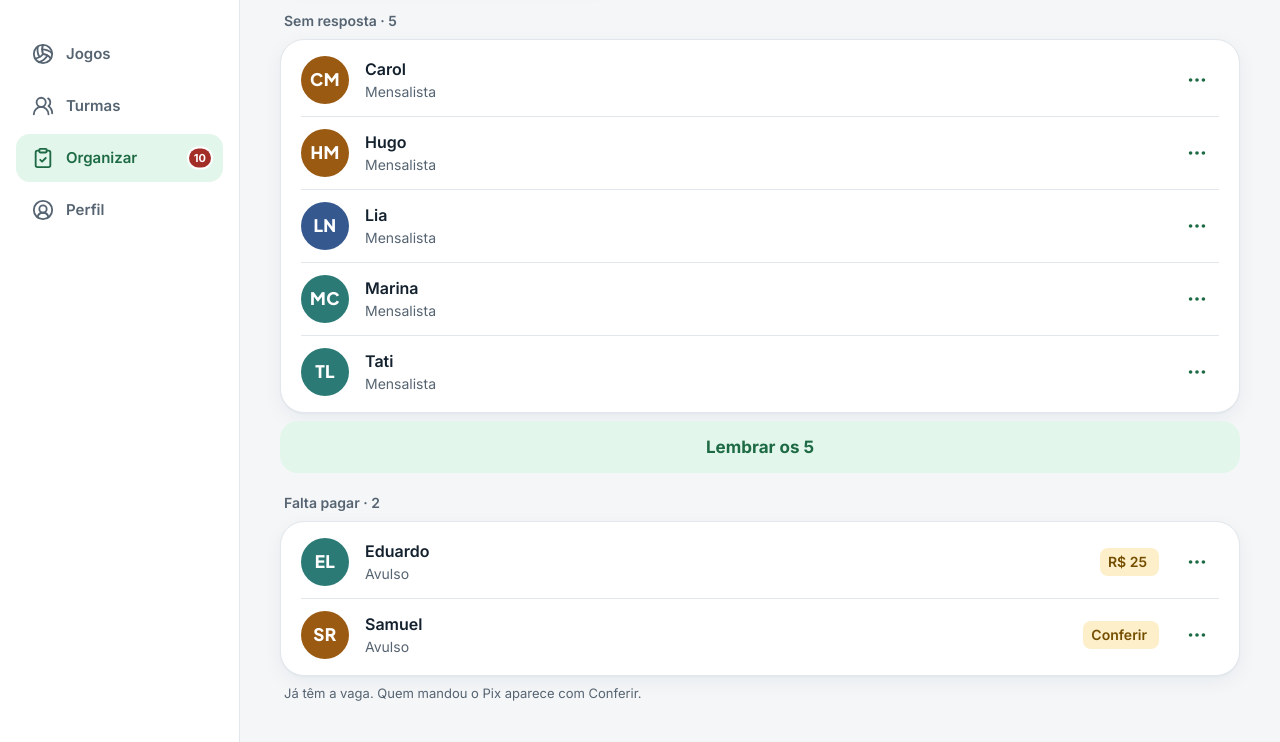
4.2 Visão de organizador da turma › Tirar da lista pede confirmação numa folha que diz quem entra no lugar
(page scrolled)
Step 1. Click the button named "Opções para Eduardo" → x=1197, y=562, box [1175, 540, 1219, 584]
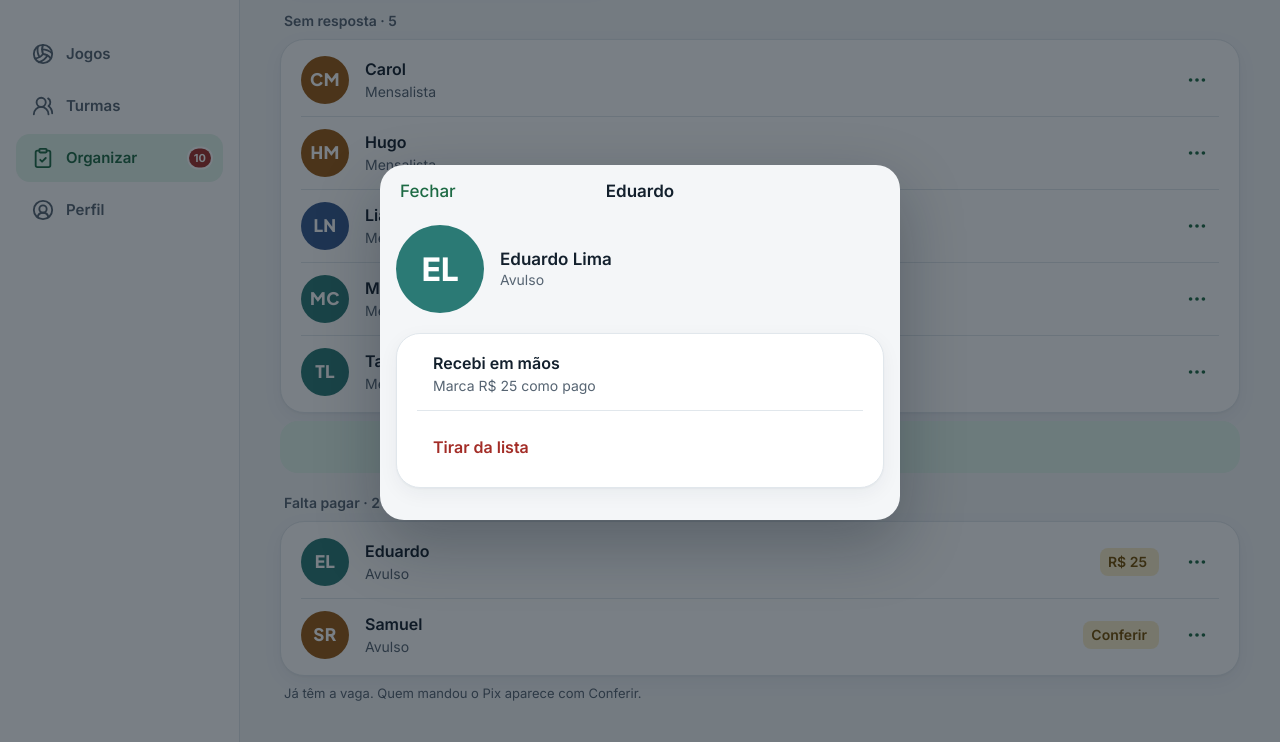
Step 2. Click the button "Tirar da lista" → x=481, y=446, box [417, 410, 863, 482]
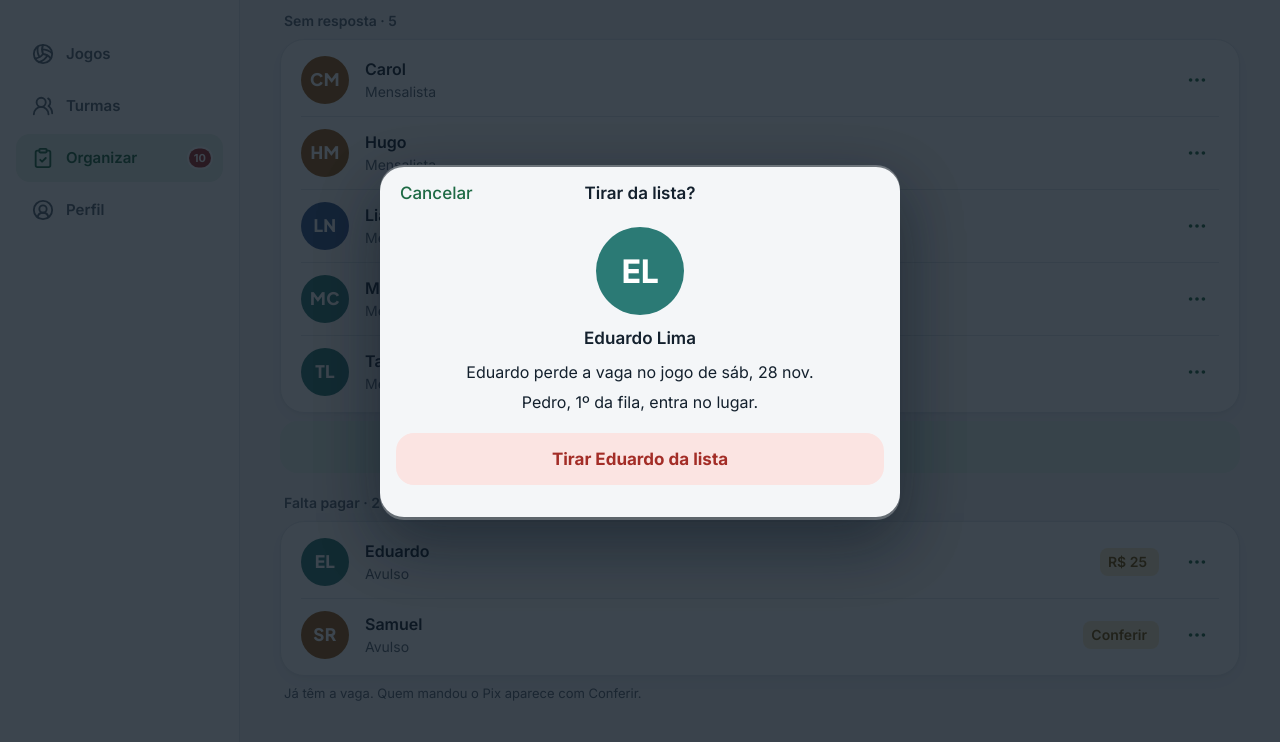
Now the list item "Eduardo perde a vaga no jogo de sáb, 28 nov." is shown, box [466, 361, 814, 383]
Now the list item "Pedro, 1º da fila, entra no lugar." is shown, box [522, 392, 758, 412]
Step 3. Click the button "Tirar Eduardo da lista" → x=640, y=459, box [396, 433, 884, 485]
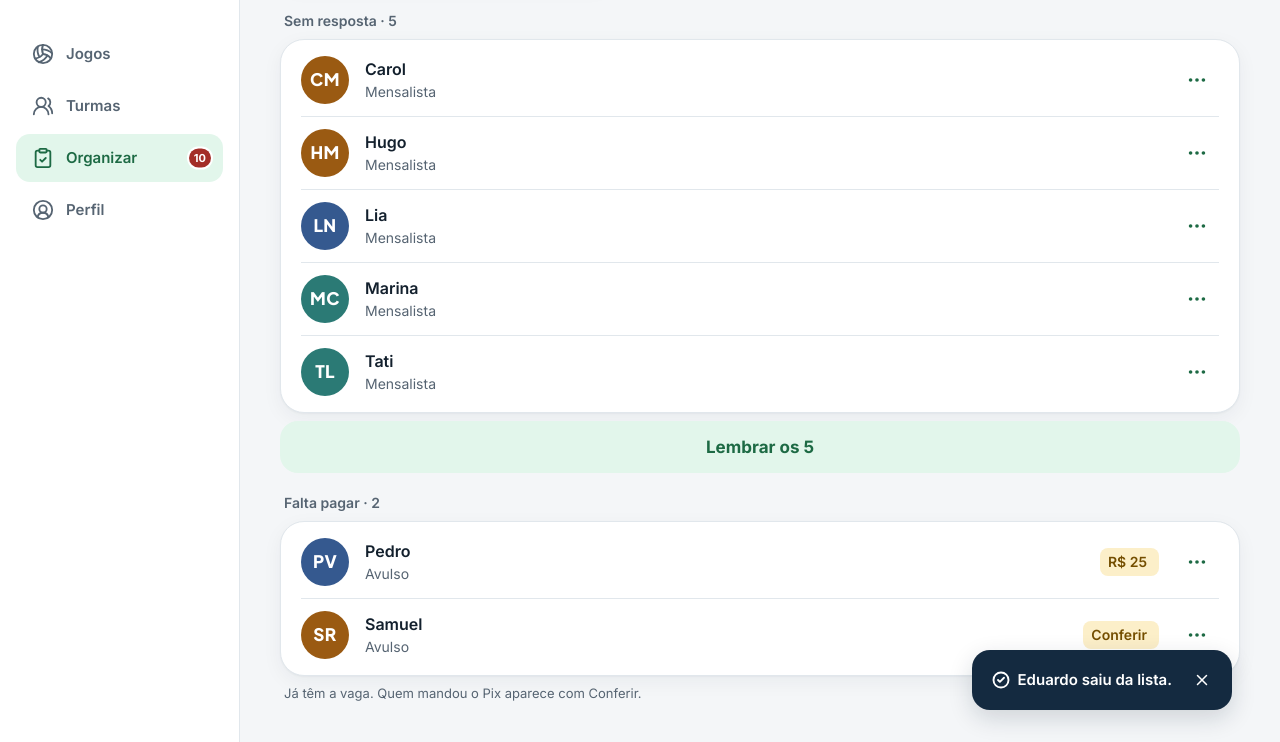
Now the text "Eduardo saiu da lista." is shown, box [1018, 670, 1172, 689]
